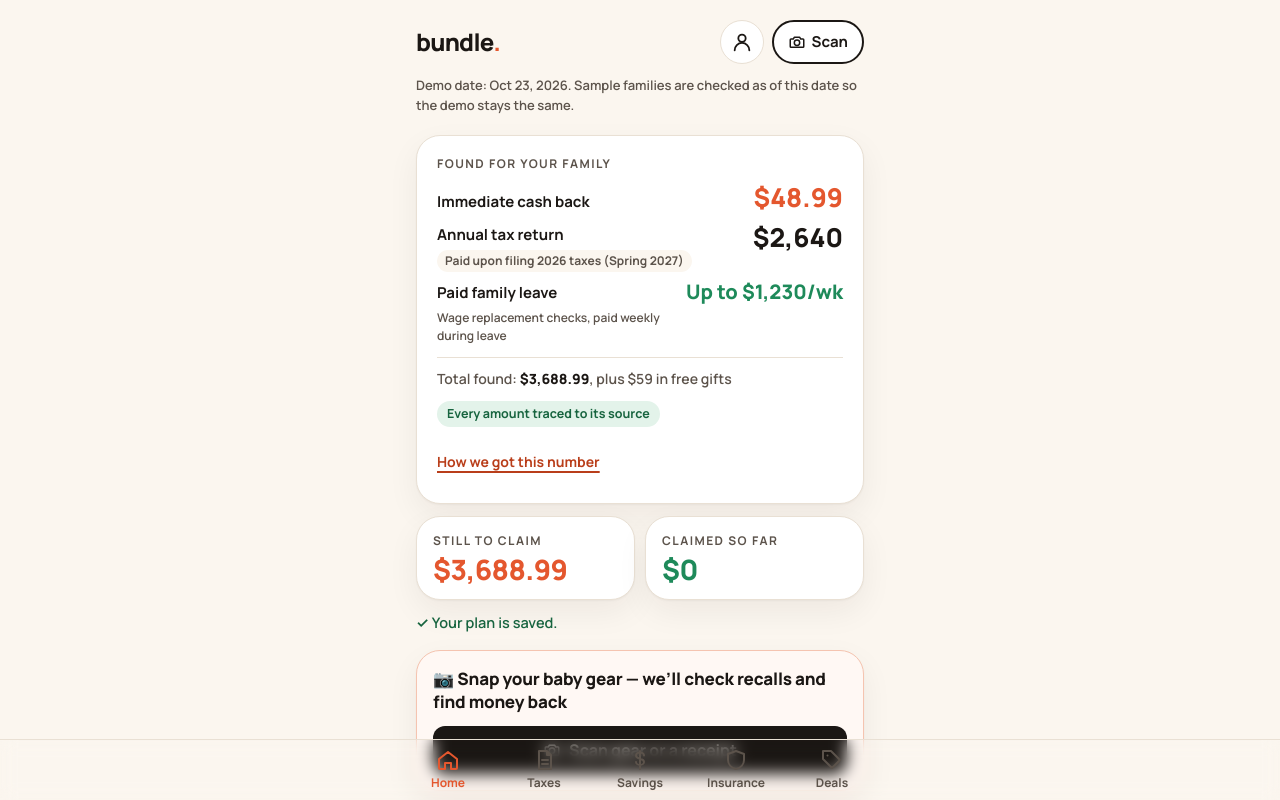
Insurance tab follows the insurance answer › marketplace: pill and deadline
Click the button "Insurance". click: (736, 770)
box: [688,740,784,799]
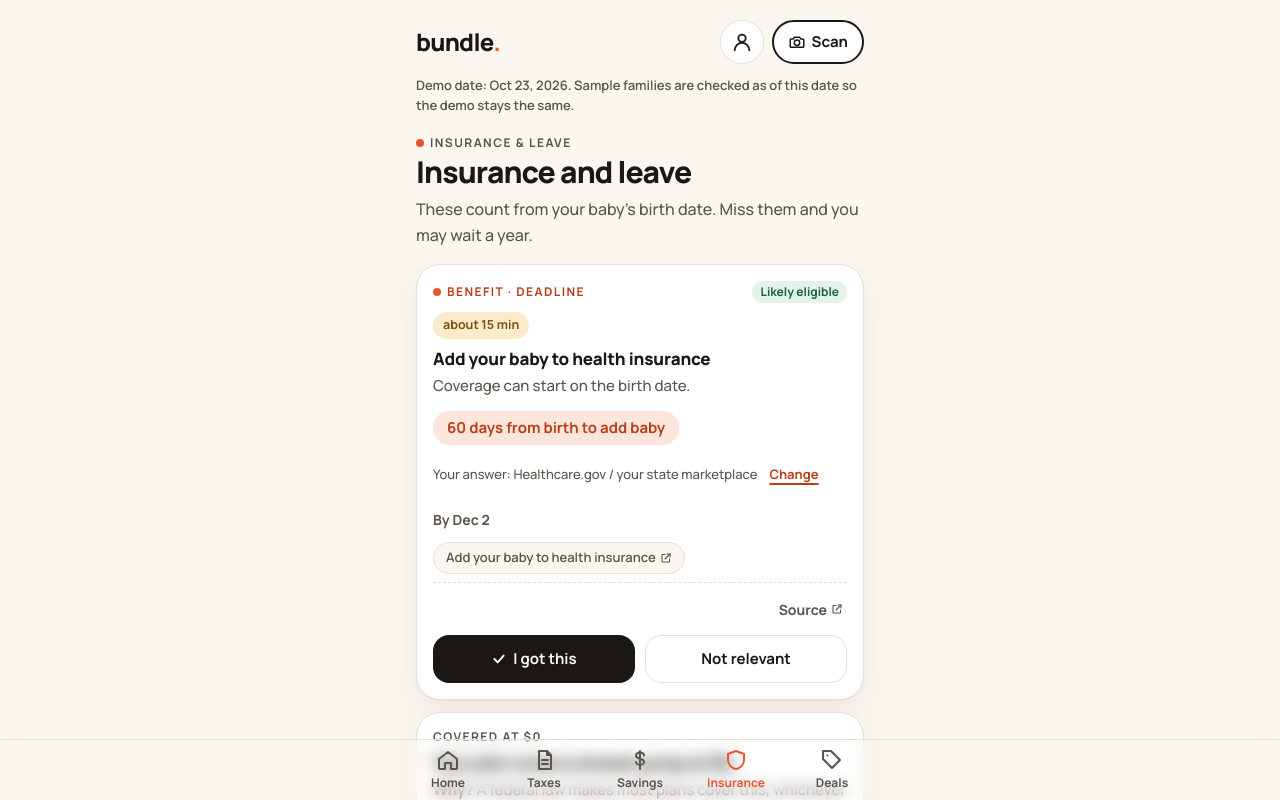
Check: the text "By Dec 2" is shown, box [433,509,490,530]
Check: the text with test id "countdown-pill" reads "60 days from birth to add baby", box [447,416,665,438]
Check: the element named "Add your baby to health insurance" shows "Your answer:", box [433,465,513,483]
